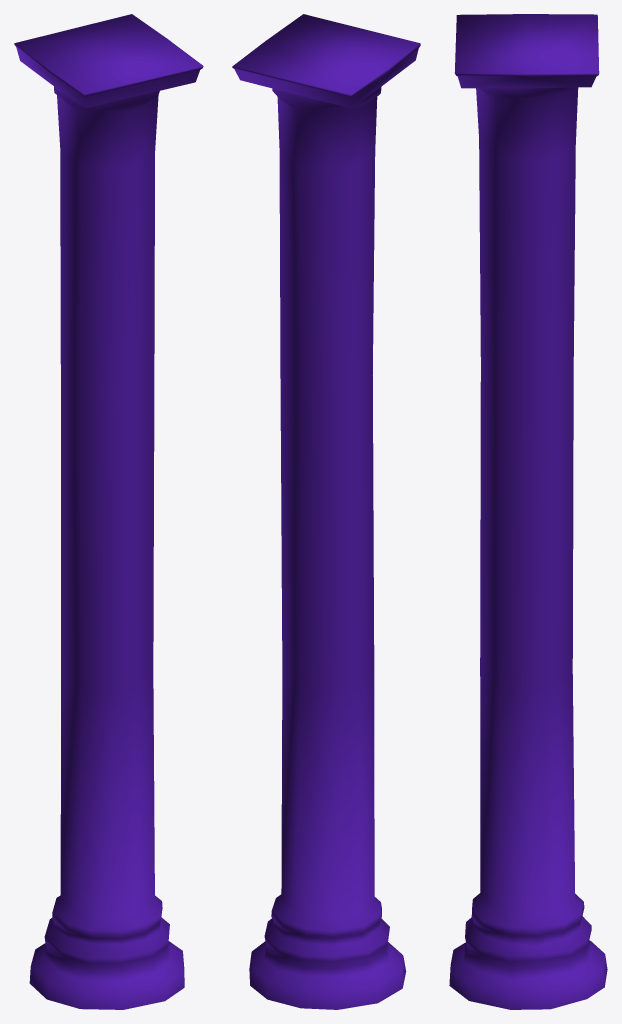
The model's file is column_04.FBX.
3 views of the same model, side by side, from view 1: azimuth 30°, elevation 25°; view 2: azimuth 150°, elevation 25°; view 3: azimuth 270°, elevation 25° (orthographic).
Parts seen in each view (by area): view 1: column_04; view 2: column_04; view 3: column_04.
Boxes of the visible parts, bbox=[...] form: column_04: bbox=[14, 14, 203, 1009]; column_04: bbox=[232, 14, 420, 1009]; column_04: bbox=[449, 14, 607, 1009].
Bounding box in the file's own units: 15.44 × 100 × 15.35.
